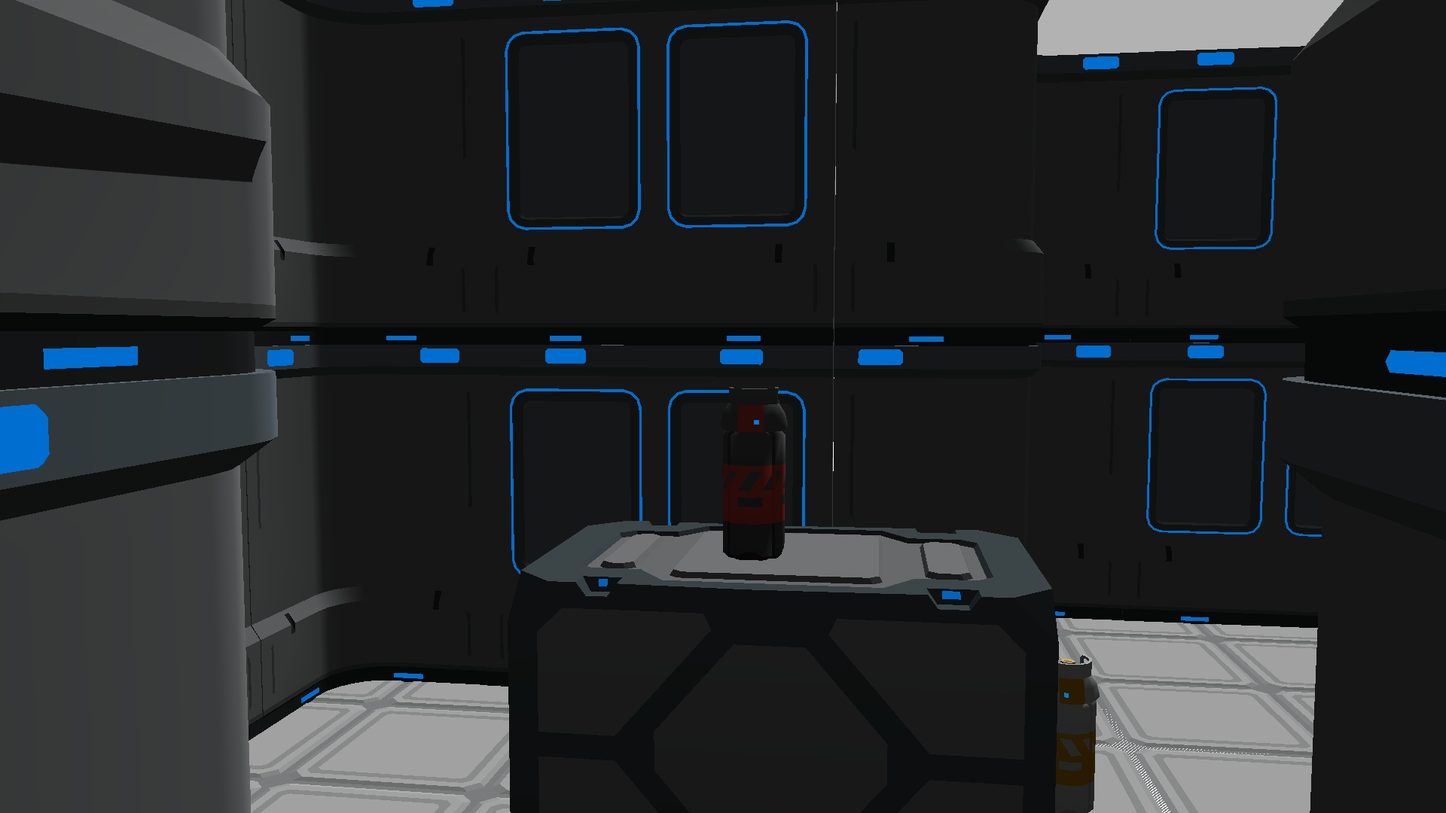red barrel: (722, 386, 787, 561)
yellow barrel: (1054, 654, 1100, 813)
